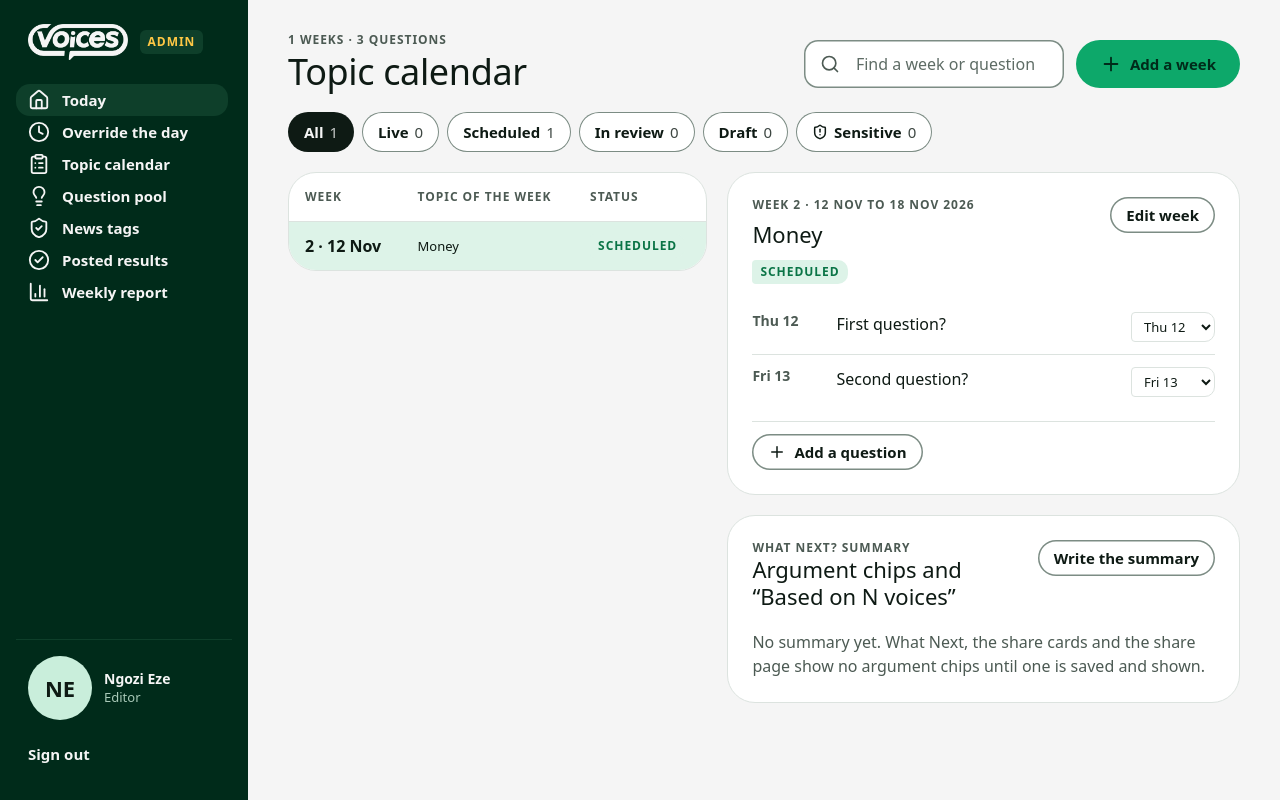
Test: RW6: the Calendar day control › a free day moves at once; a started question is refused in plain words
Select "Sun 15" in the dropdown named "Day for: First question?" at (1173, 327), box [1131, 312, 1215, 342]
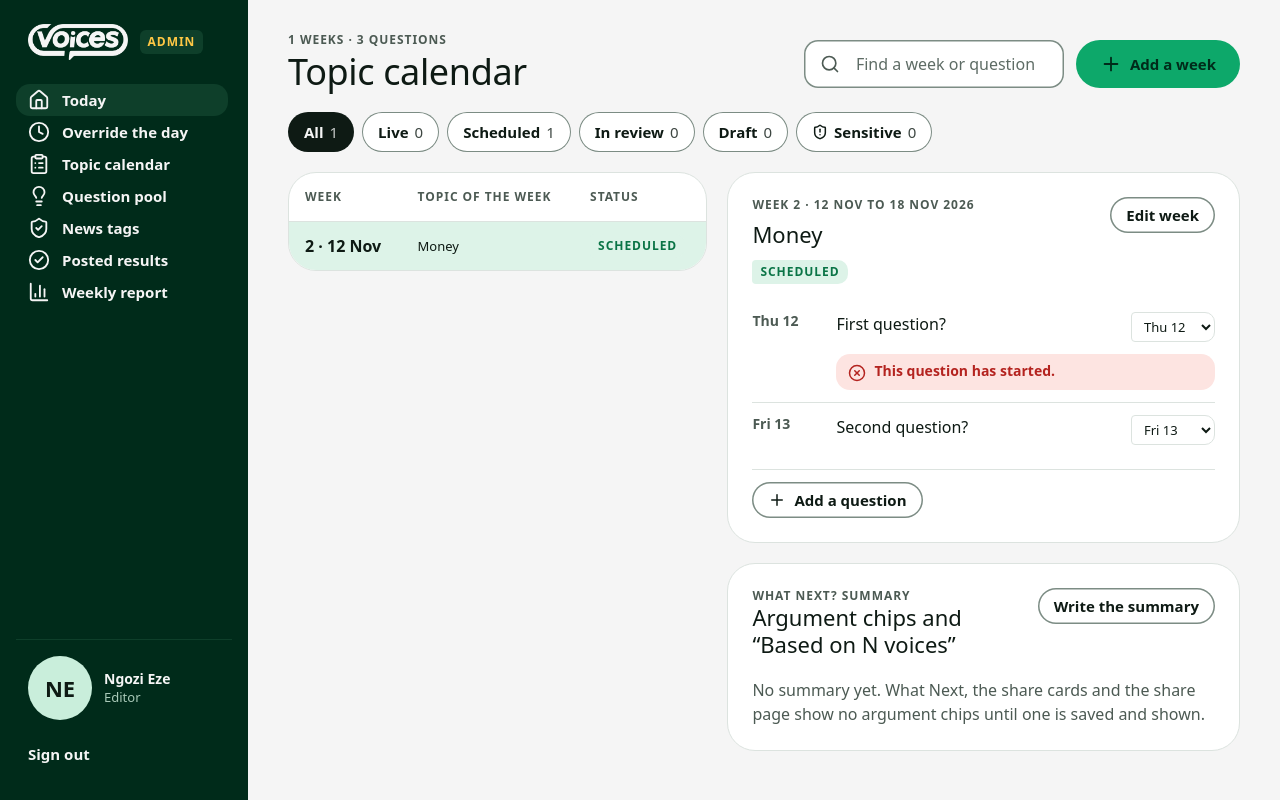
Check: the text "This question has started." is shown, box [874, 362, 1055, 380]
